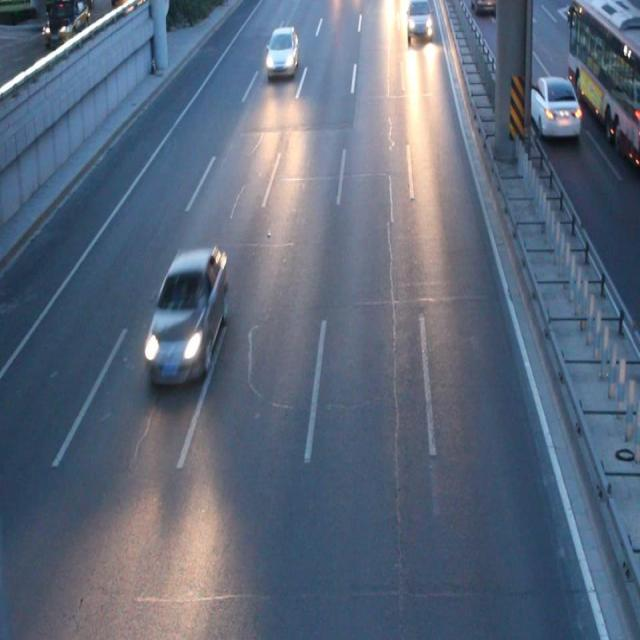car: (150, 244, 227, 378), (522, 75, 578, 136), (265, 29, 297, 74), (470, 2, 498, 15)
truck: (405, 1, 431, 39)
van: (566, 1, 640, 167)
